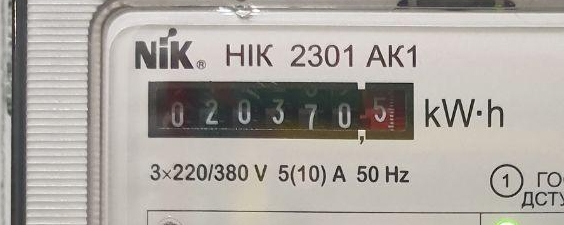0: (336, 101, 354, 131), (169, 99, 186, 128), (237, 97, 252, 125)
2: (203, 97, 221, 128)
3: (270, 96, 286, 126)
5: (372, 94, 390, 125)
7: (303, 102, 318, 132)
screen: (141, 75, 423, 150)
